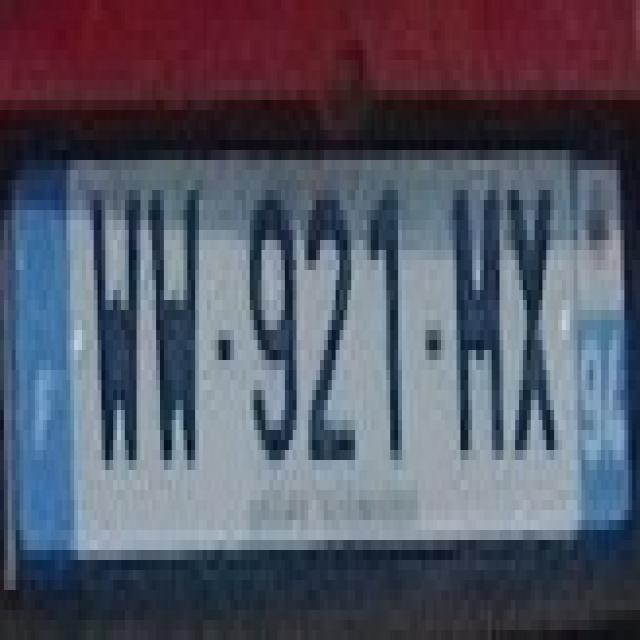EU: (11, 164, 634, 529)
France: (10, 188, 78, 559)
